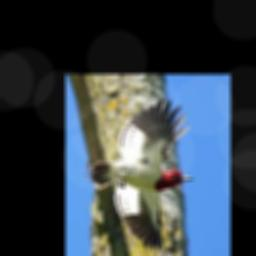Woodpecker: (85, 99, 193, 256)
